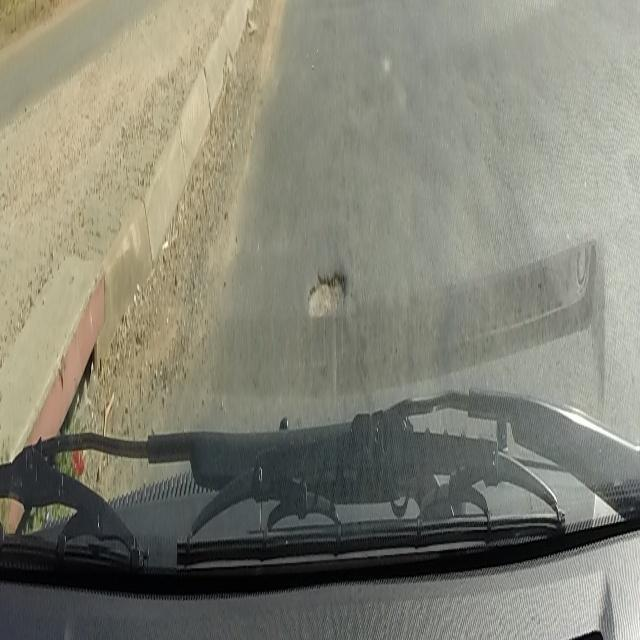pothole: (306, 252, 346, 330)
